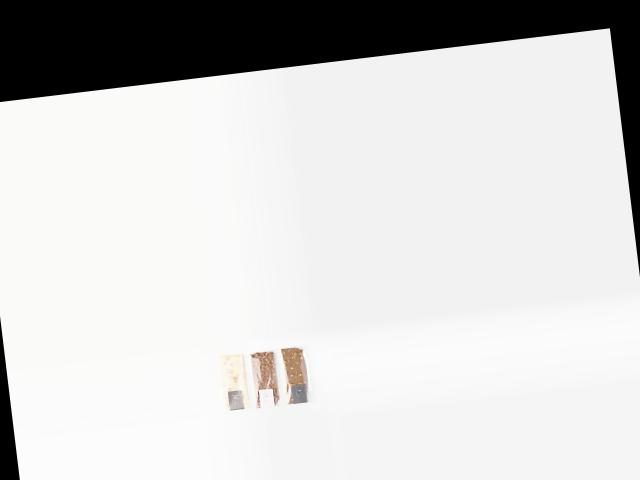chocolate: (281, 342, 315, 404)
